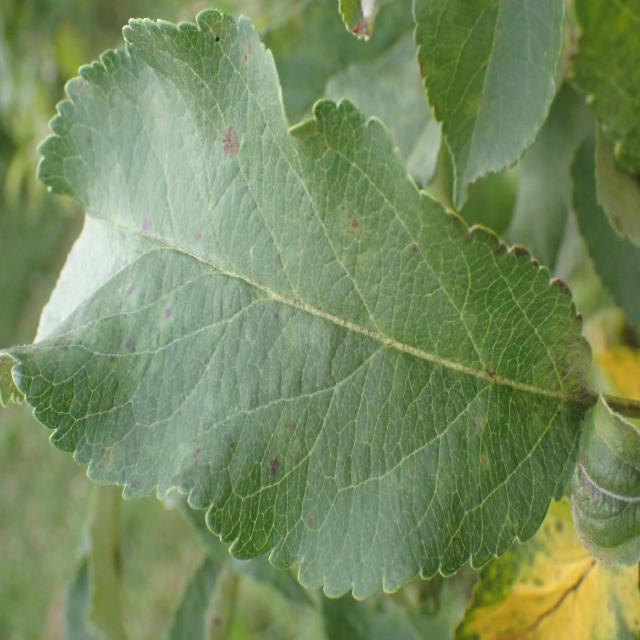scab: (75, 34, 590, 549)
